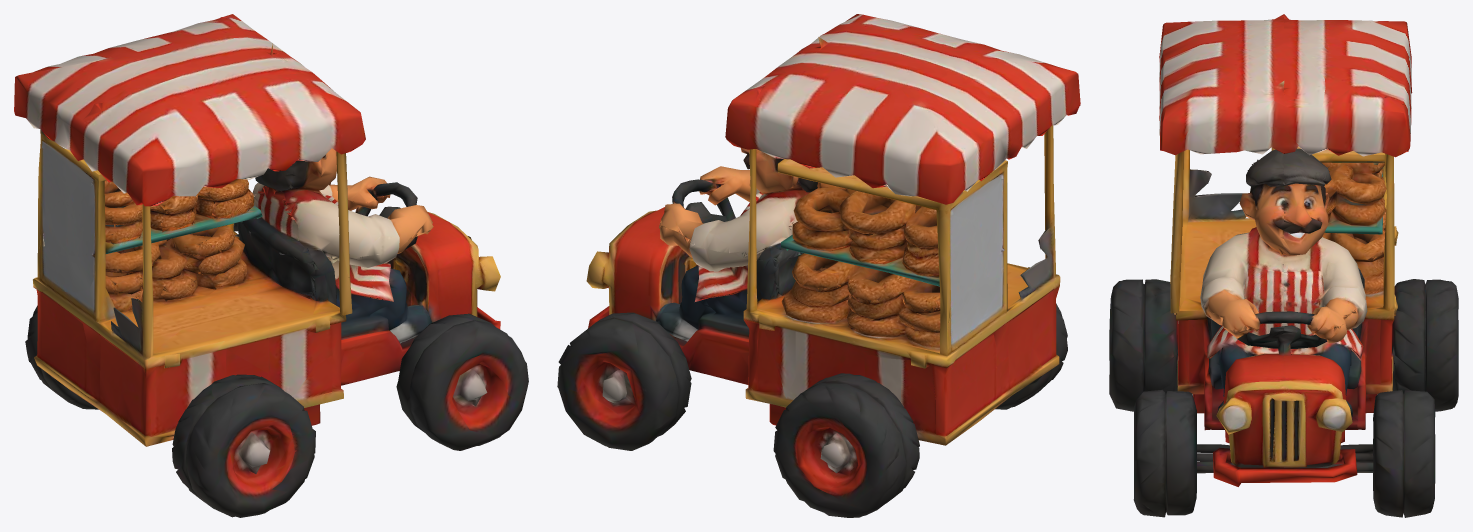
The model's file is k_simitci.glb.
The picture shows the model from 3 angles, left to right: view 1: azimuth 30°, elevation 25°; view 2: azimuth 150°, elevation 25°; view 3: azimuth 270°, elevation 25°; orthographic projection. The views are drawn at different scales.
Parts seen in each view (by area): view 1: tripo_node_f877e7a4-f792-4fe6-afda-fc9cb918e667; view 2: tripo_node_f877e7a4-f792-4fe6-afda-fc9cb918e667; view 3: tripo_node_f877e7a4-f792-4fe6-afda-fc9cb918e667.
Part boxes in pixels (x1,y1,x2,y2): tripo_node_f877e7a4-f792-4fe6-afda-fc9cb918e667: (14, 14, 528, 517); tripo_node_f877e7a4-f792-4fe6-afda-fc9cb918e667: (557, 14, 1080, 517); tripo_node_f877e7a4-f792-4fe6-afda-fc9cb918e667: (1109, 14, 1458, 517).
Size of the model in its own units: 0.9796 by 0.9092 by 0.7767.
1 material, 1 textured.
